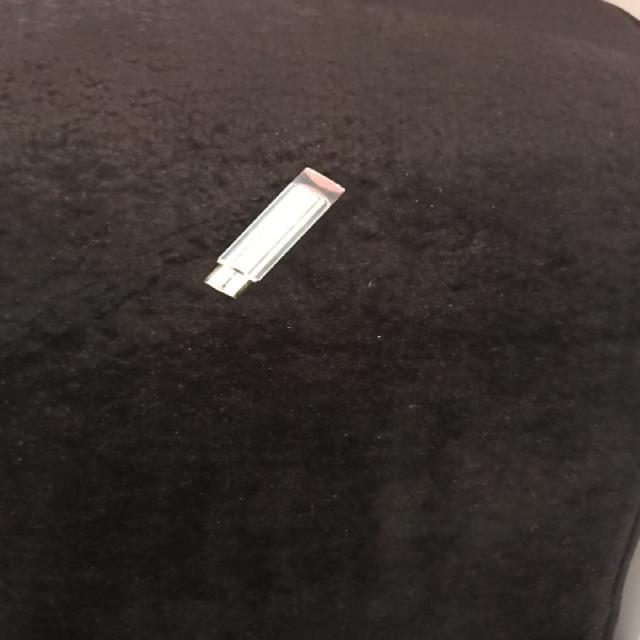lipstick: (201, 166, 345, 299)
